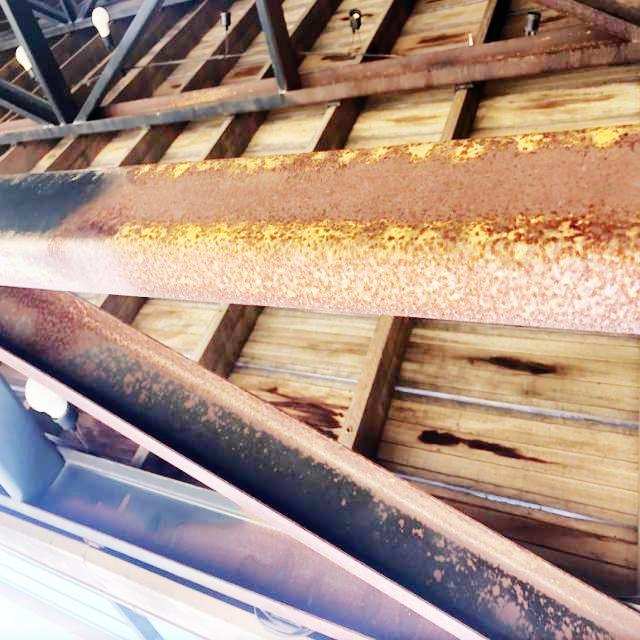Corrosion: (0, 123, 640, 640), (107, 0, 640, 123)
